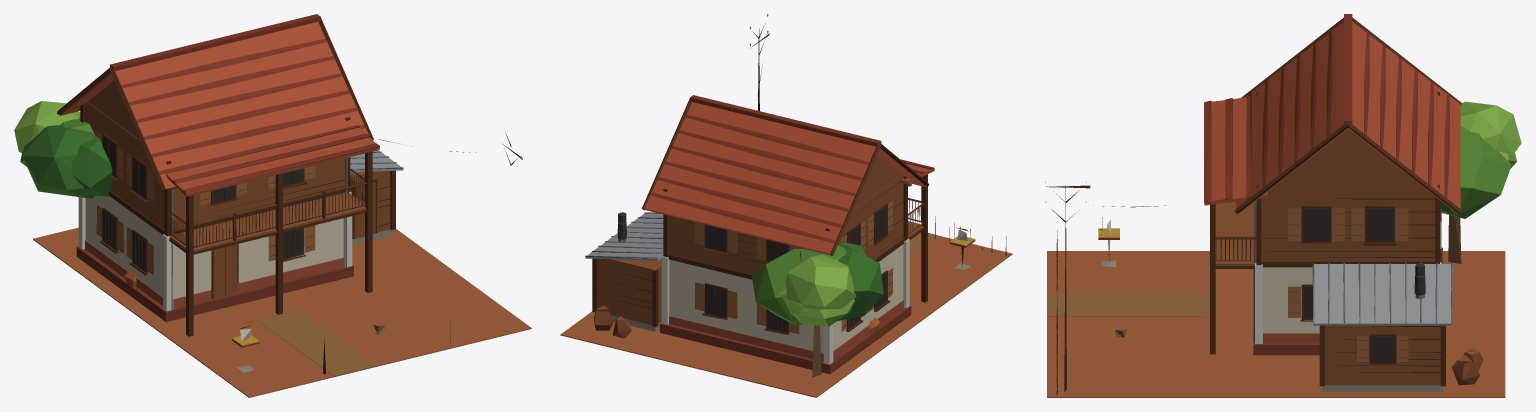
File: house12_2.glb
3 views of the same model, side by side, from view 1: azimuth 30°, elevation 25°; view 2: azimuth 150°, elevation 25°; view 3: azimuth 270°, elevation 25° (orthographic). The views are drawn at different scales.
Parts seen in each view (by area): view 1: body, windows; view 2: body, windows; view 3: body, windows.
Boxes of the visible parts, x1,y1,x2,y2 form: body: (14, 14, 531, 397); windows: (103, 136, 303, 270); body: (560, 14, 1012, 397); windows: (706, 206, 887, 331); body: (1045, 14, 1521, 397); windows: (1303, 208, 1394, 362).
Bounding box in the file's own units: 13.46 × 9.43 × 16.67.
